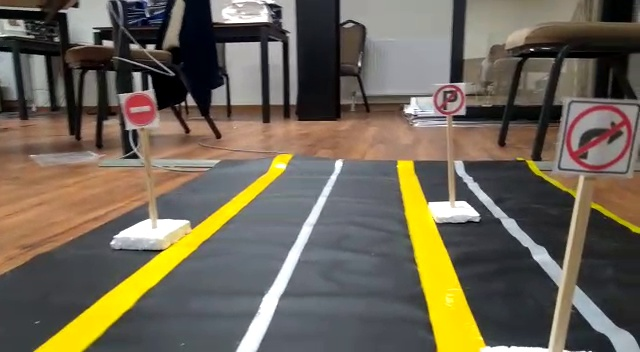girisi_olmayan_yol: (120, 93, 161, 130)
park_yapilmaz: (432, 83, 465, 118)
saga_donulmez: (564, 98, 631, 176)
